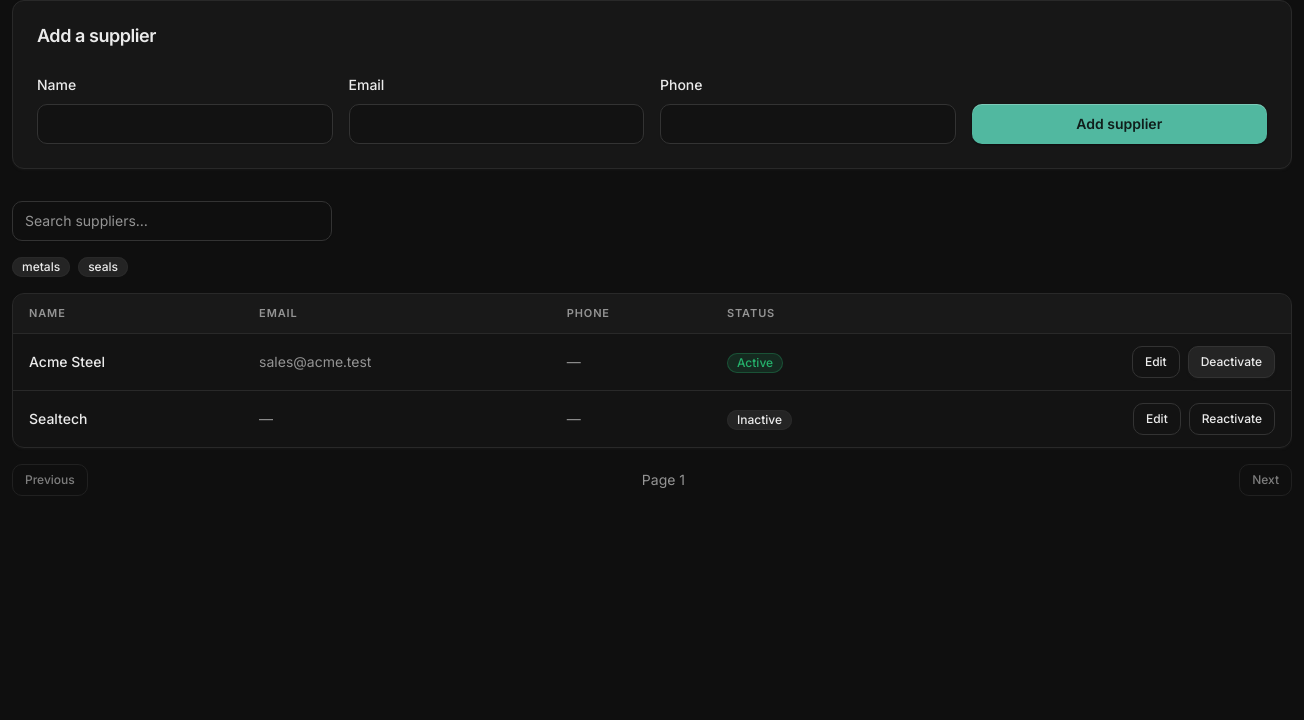
Test case: SuppliersPanel edit and list flows › shows the server error when deactivating fails
What coordinates should you click on to do the following:
click the button "Deactivate"
I would click on:
 (1231, 362)
Its box is [1188,346,1275,378].
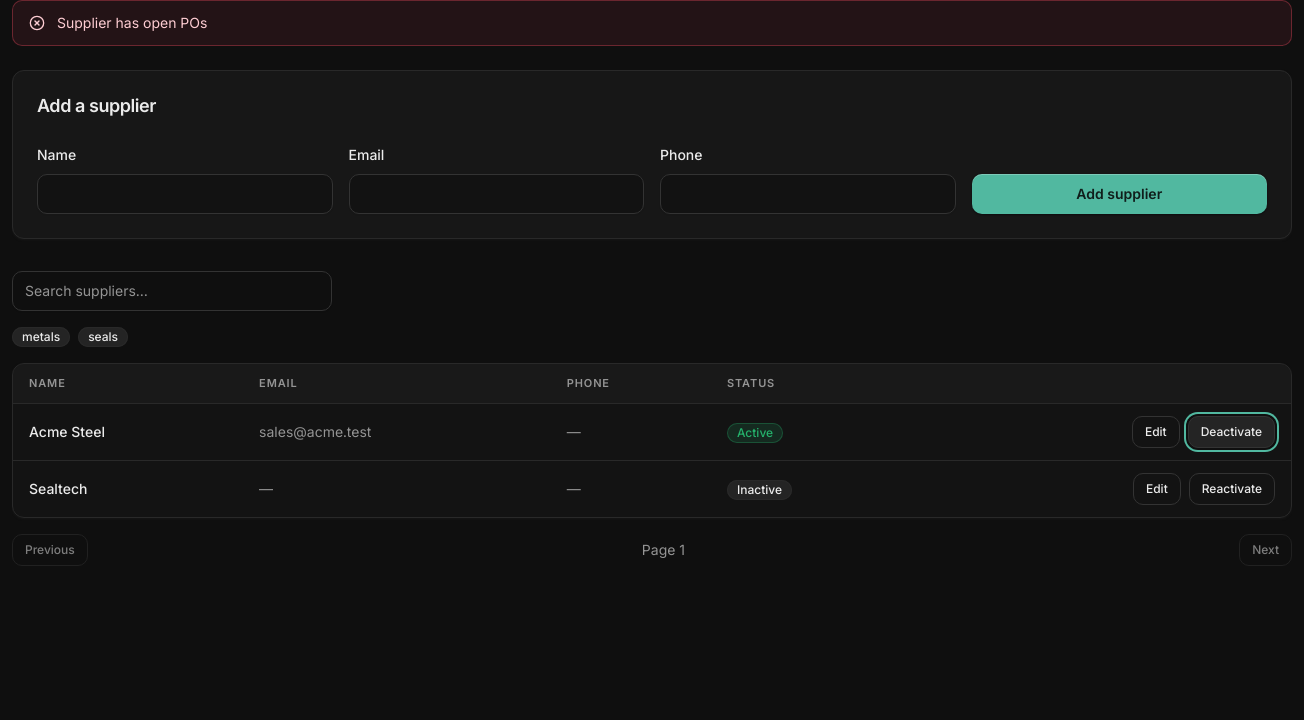
Expected: the text "Supplier has open POs" is shown, [57,13,207,33]
